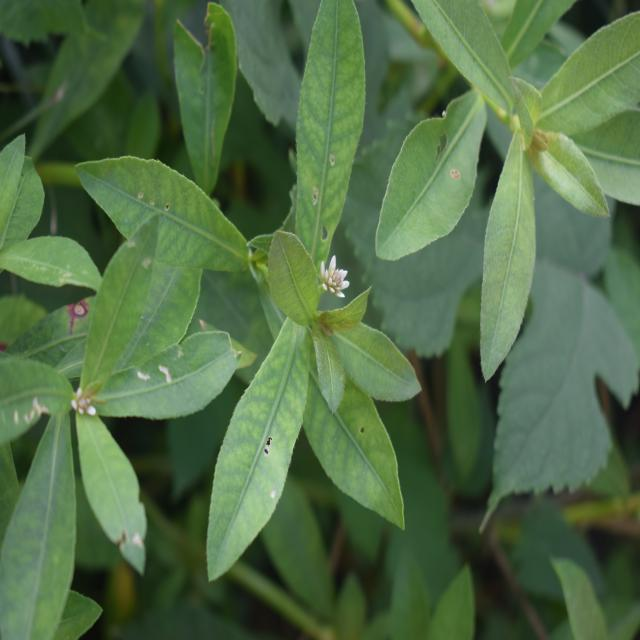Alligatorweed: (103, 47, 422, 546), (382, 8, 640, 359)
